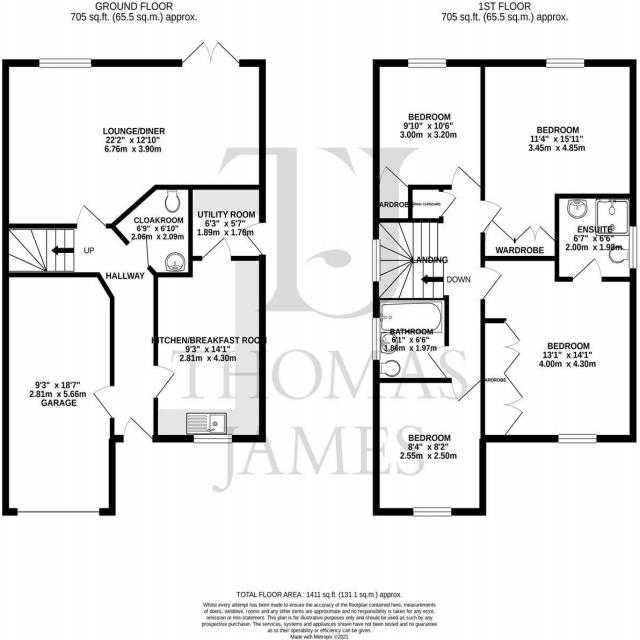DOOR: (88, 383, 115, 426), (447, 376, 485, 405), (120, 413, 156, 443), (423, 342, 451, 380), (480, 197, 505, 239), (153, 362, 177, 405), (481, 264, 505, 306), (449, 162, 485, 190), (240, 219, 266, 257), (198, 235, 233, 261), (75, 203, 109, 229)
DOUBLE DOOR: (176, 35, 242, 67)
ROOM: (0, 30, 264, 230), (481, 59, 637, 262), (480, 255, 637, 443), (153, 234, 266, 443), (372, 59, 485, 223), (373, 375, 487, 516)
WINDOW: (36, 55, 93, 70), (544, 55, 586, 71), (555, 431, 599, 446), (410, 505, 453, 520), (193, 431, 234, 446), (370, 315, 383, 362), (406, 56, 448, 70), (627, 223, 639, 270)
